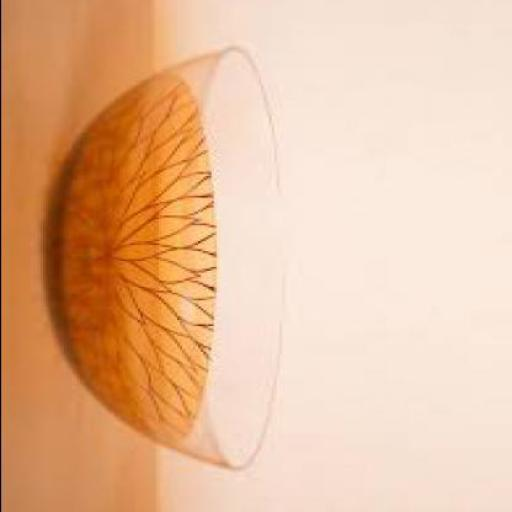glass: (48, 54, 288, 472)
